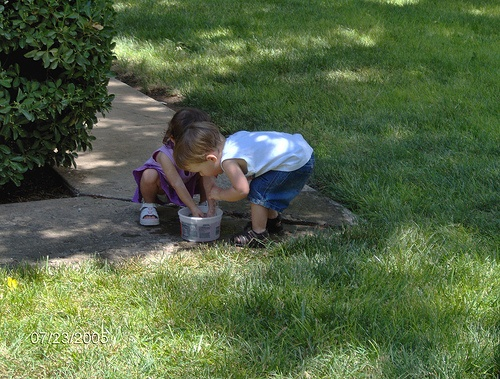head: (174, 123, 227, 178)
person: (174, 120, 313, 245), (130, 105, 208, 227)
